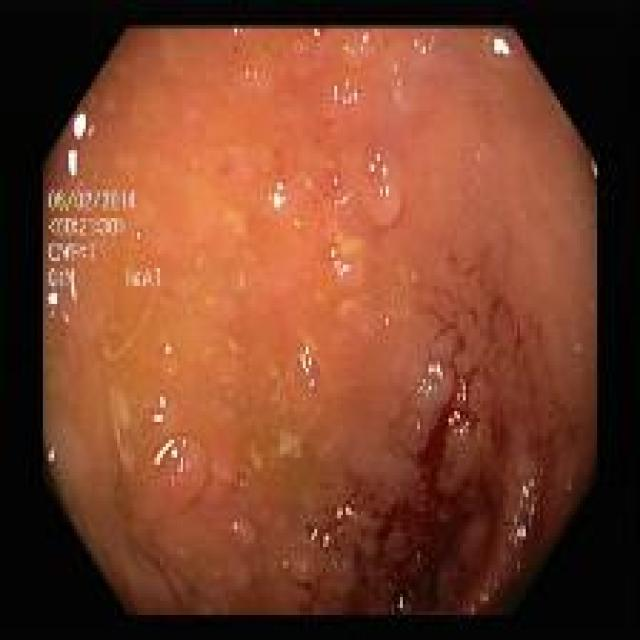ulcerative-colitis: (44, 28, 596, 614)
